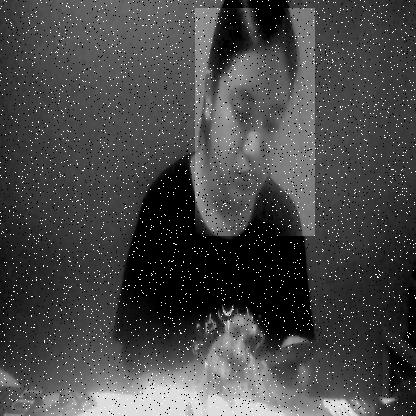Distracted: (196, 8, 315, 236)
